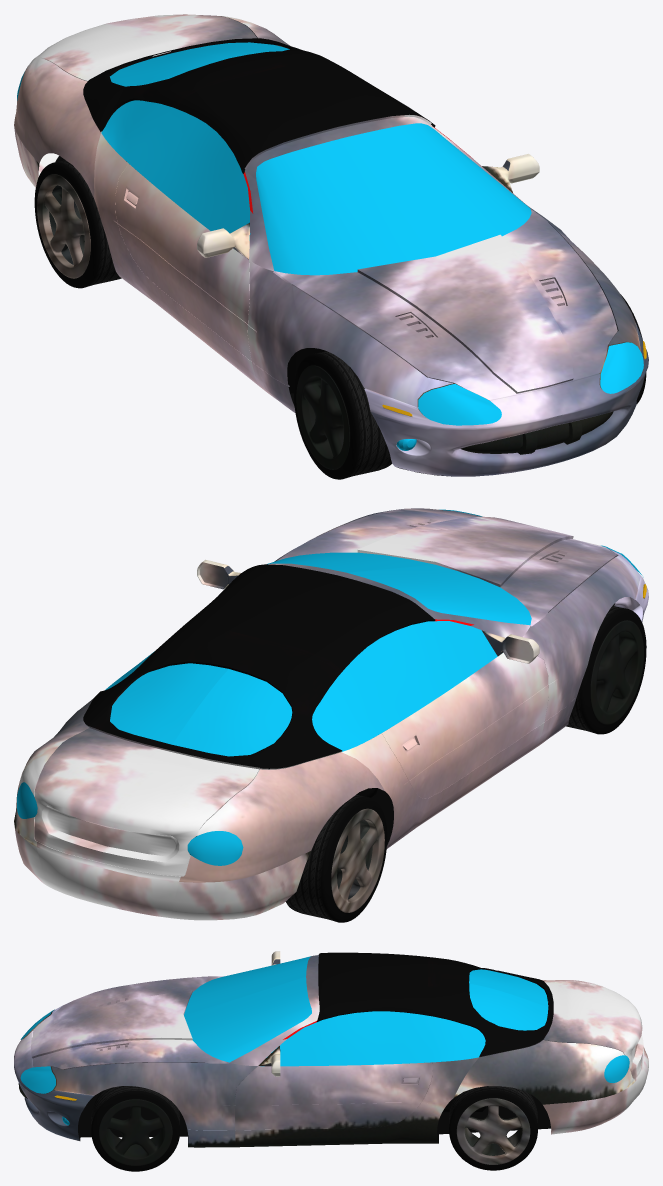
The model's file is Sports Car.gltf.
3 renders of one model, top to bottom at view 1: azimuth 30°, elevation 25°; view 2: azimuth 150°, elevation 25°; view 3: azimuth 270°, elevation 25°, orthographic. The views are drawn at different scales.
Parts seen in each view (by area): view 1: 10614_2DoorSportscar-L1; view 2: 10614_2DoorSportscar-L1; view 3: 10614_2DoorSportscar-L1.
Part boxes in pixels (x1,y1,x2,y2): 10614_2DoorSportscar-L1: [14, 14, 648, 479]; 10614_2DoorSportscar-L1: [14, 508, 648, 922]; 10614_2DoorSportscar-L1: [14, 951, 648, 1171].
Bounding box in the file's own units: 84.02 × 51.74 × 199.
5 materials, 3 textured.
